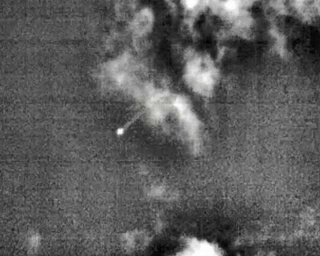AIRPLANE: (111, 69, 184, 145)
